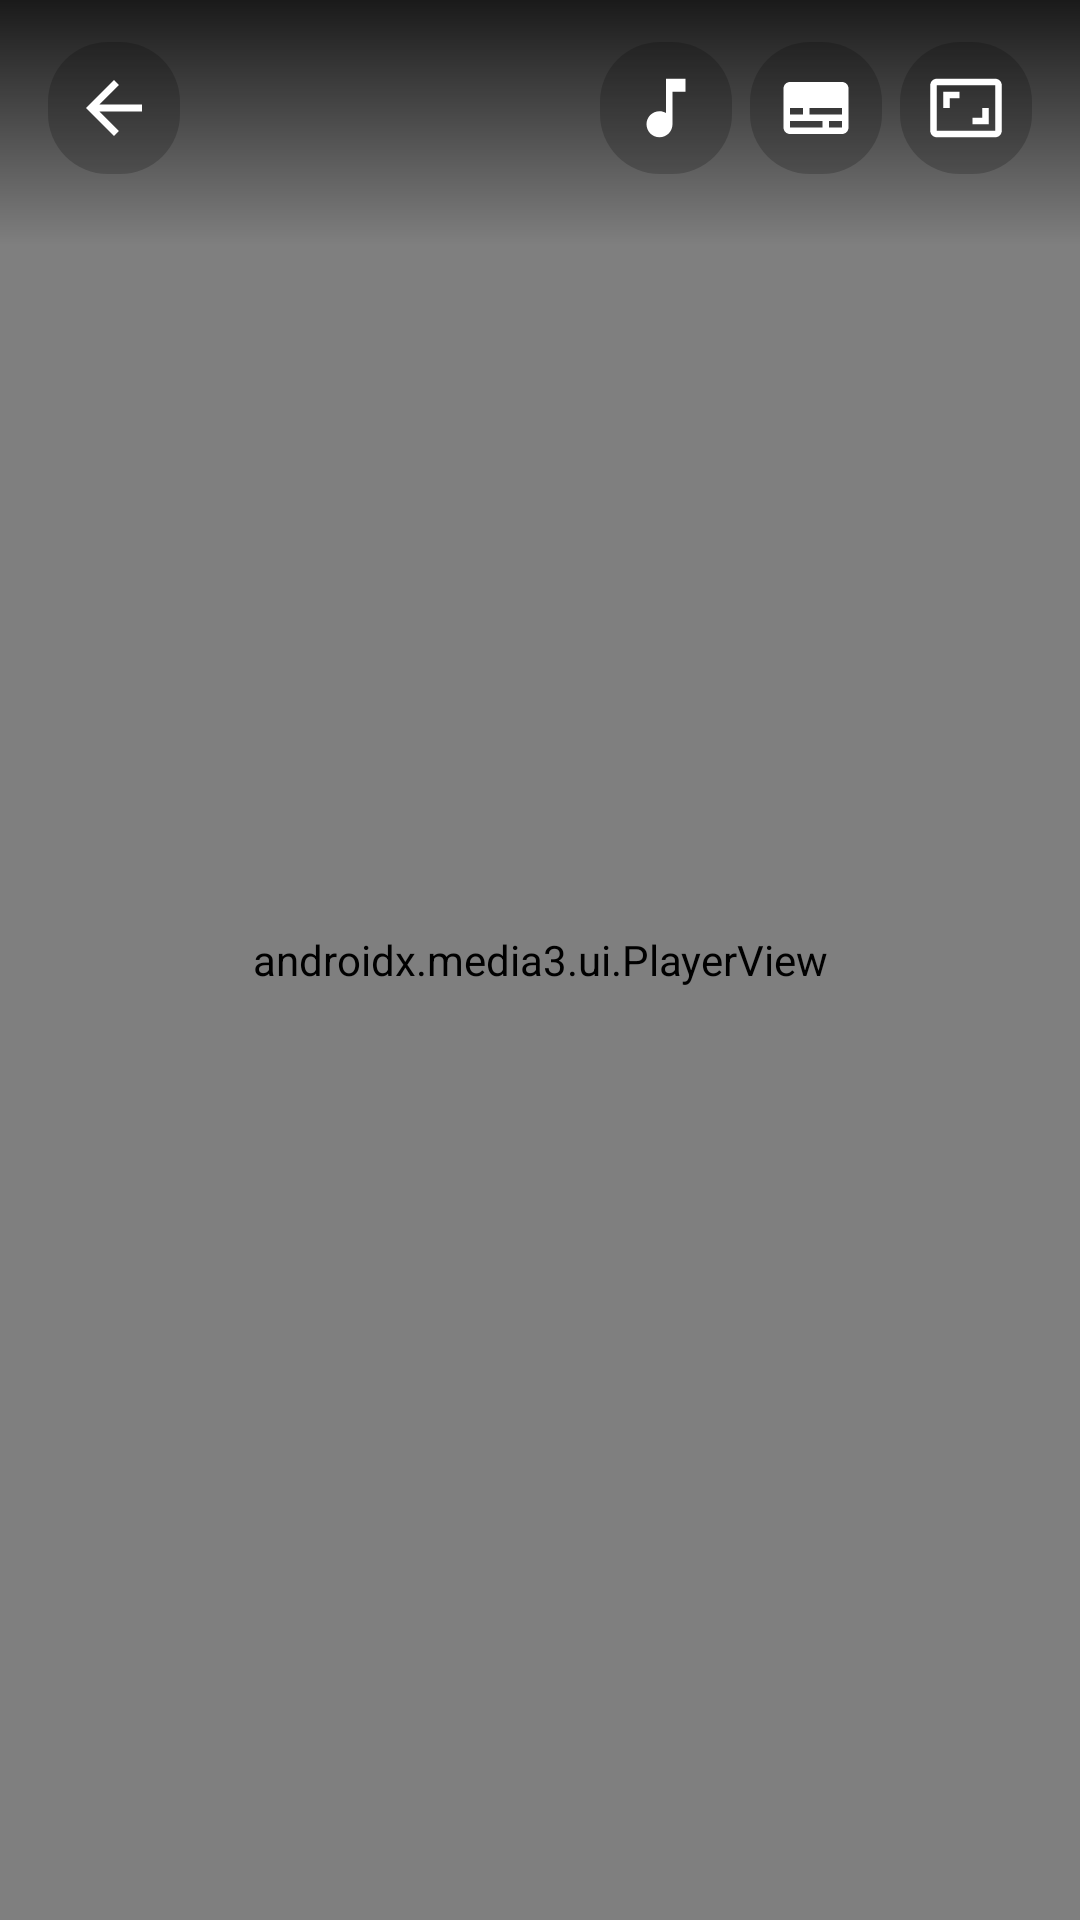

Icons on this 1080 × 1920 Android screen, each with the point to tap as point (x, y):
Ridimensiona / Zoom: point (966, 108)
Seleziona audio: point (666, 108)
Seleziona sottotitoli: point (816, 108)
Torna indietro: point (114, 108)
